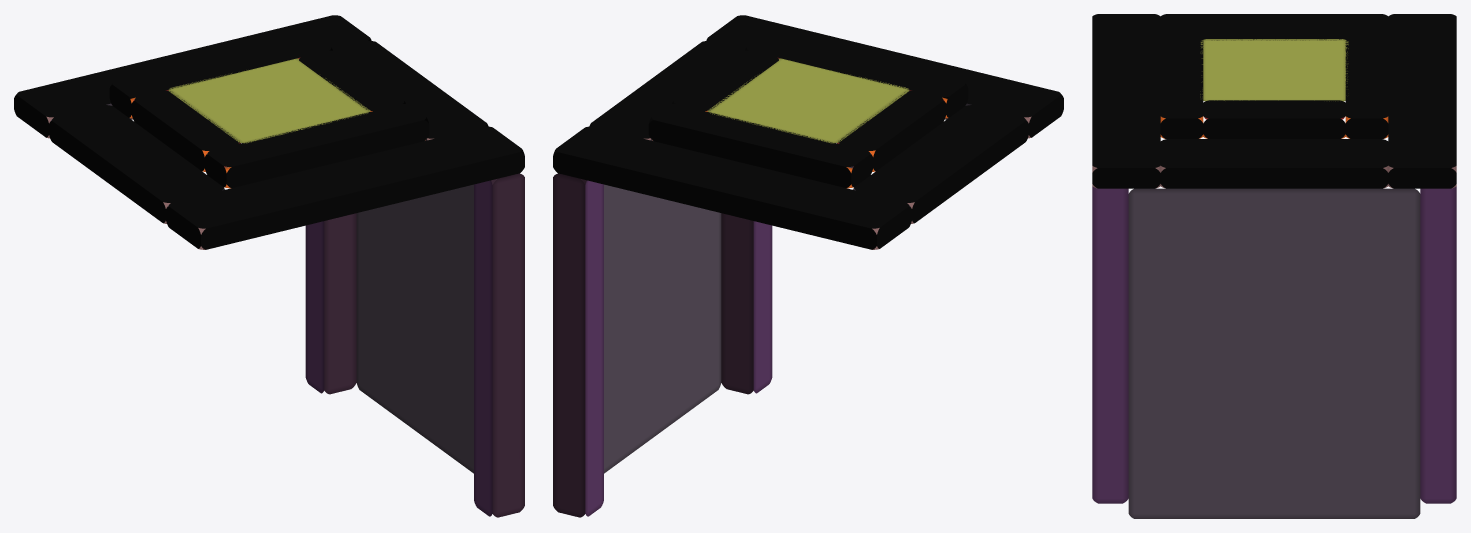
Rendered from 002-NSW.obj.
The picture shows the model from 3 angles, left to right: view 1: azimuth 30°, elevation 25°; view 2: azimuth 150°, elevation 25°; view 3: azimuth 270°, elevation 25°; orthographic projection. The views are drawn at different scales.
Visible parts, largest first — view 1: Roof, E; view 2: Roof, E; view 3: E, Roof.
Boxes of the visible parts, x1,y1,x2,y2 form: Roof: (14, 15, 524, 249); E: (305, 173, 524, 517); Roof: (553, 15, 1063, 249); E: (553, 173, 772, 517); E: (1092, 186, 1456, 518); Roof: (1092, 14, 1456, 188).
Bounding box in the file's own units: 2 × 2.25 × 2.
Materials: 2 (2 with a texture image).
